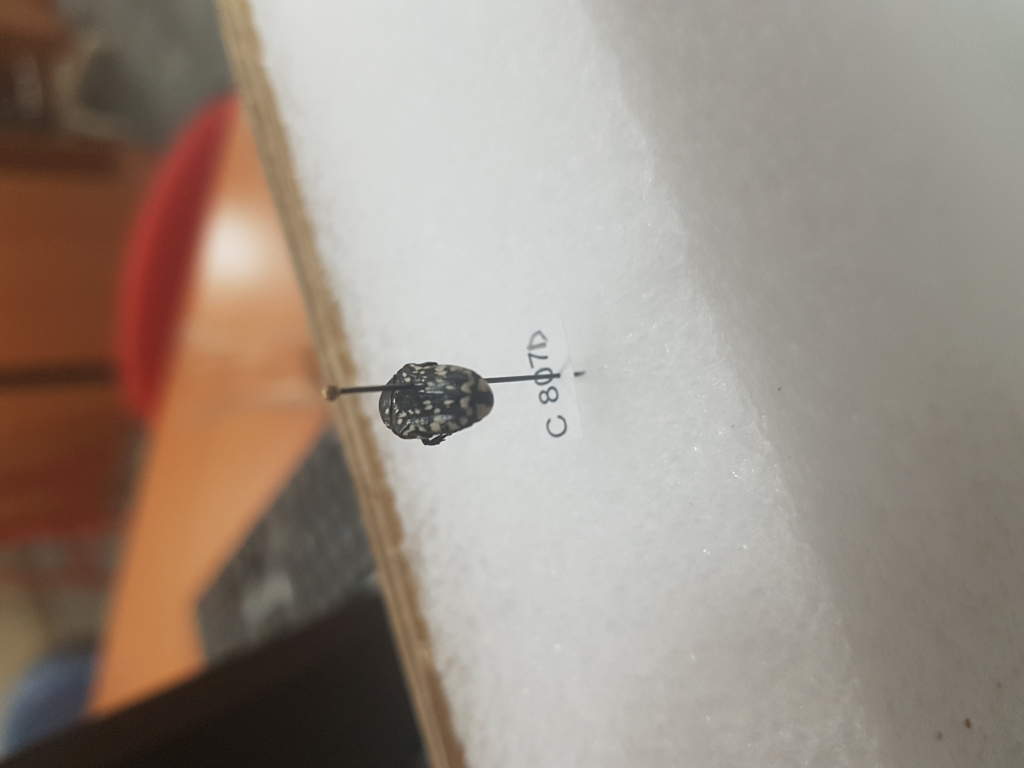Oxythyrea_albopicta: (372, 360, 496, 448)
